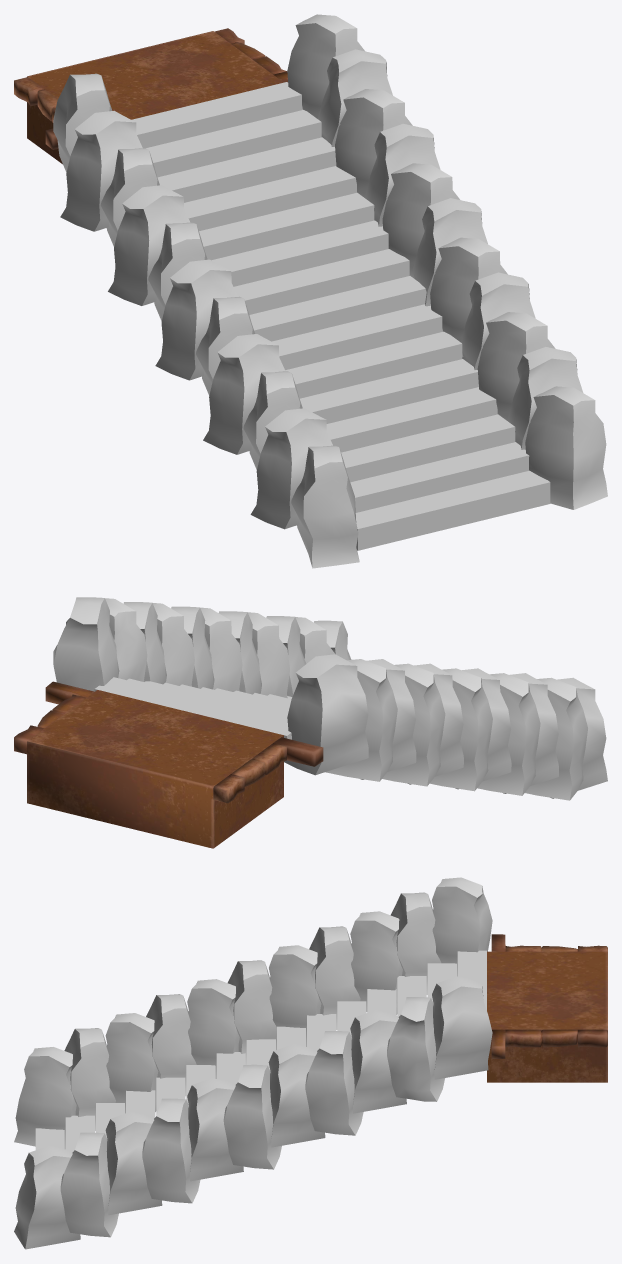
Rendered from Stair block.fbx.
The picture shows the model from 3 angles, top to bottom: view 1: azimuth 30°, elevation 25°; view 2: azimuth 150°, elevation 25°; view 3: azimuth 270°, elevation 25°; orthographic projection. The views are drawn at different scales.
Visible parts, largest first — view 1: Stair block, N Block 1; view 2: Stair block, N Block 1; view 3: Stair block, N Block 1.
Part boxes in pixels (left/top/right/bottom): Stair block: left=53, top=14, right=607, bottom=568; N Block 1: left=14, top=28, right=287, bottom=164; Stair block: left=53, top=597, right=607, bottom=800; N Block 1: left=14, top=681, right=323, bottom=848; Stair block: left=14, top=877, right=492, bottom=1249; N Block 1: left=487, top=934, right=607, bottom=1082.
Bounding box in the file's own units: 6.31 × 5.66 × 11.86.
